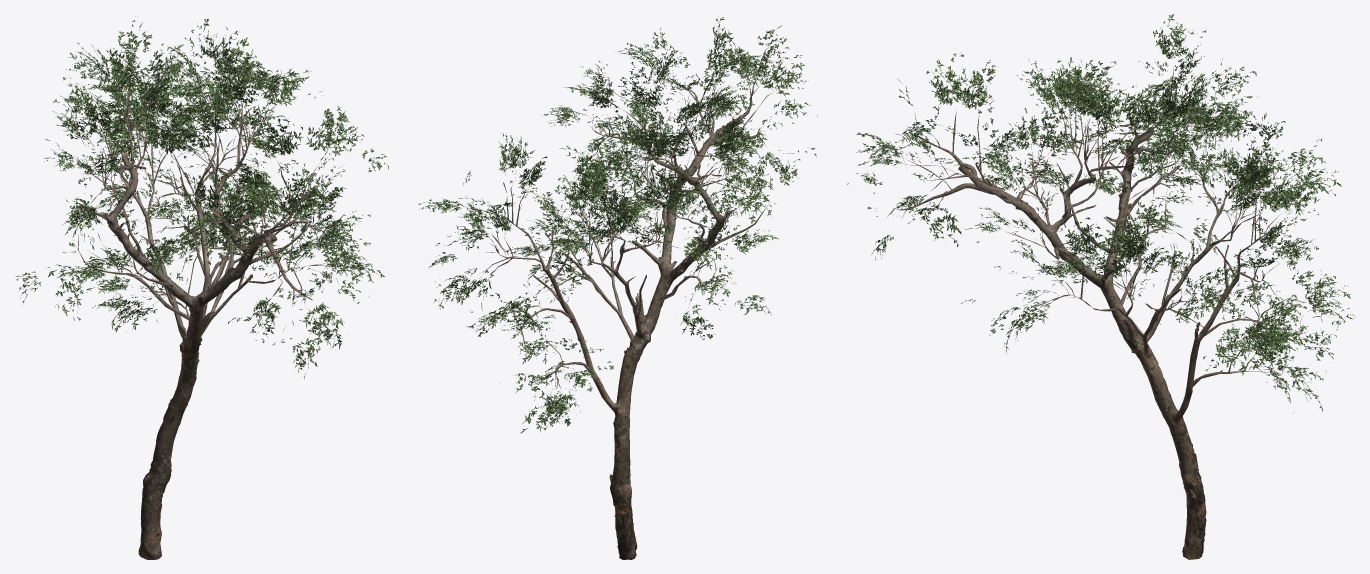
3 renders of one model, left to right at view 1: azimuth 30°, elevation 25°; view 2: azimuth 150°, elevation 25°; view 3: azimuth 270°, elevation 25°, orthographic. The views are drawn at different scales.
Parts seen in each view (by area): view 1: tree_small_02_LOD0; view 2: tree_small_02_LOD0; view 3: tree_small_02_LOD0.
Boxes of the visible parts, x1,y1,x2,y2 form: tree_small_02_LOD0: (15,16,388,559); tree_small_02_LOD0: (418,17,817,559); tree_small_02_LOD0: (847,14,1355,559).
Size of the model in its own units: 2.9 by 4.54 by 4.17.
Materials: 3 (3 with a texture image).
